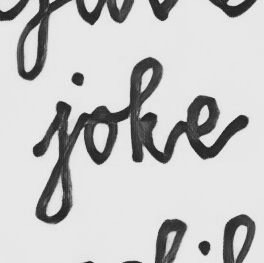e: (183, 92, 224, 162)
j: (32, 98, 76, 225)
k: (125, 55, 172, 165)
o: (80, 102, 120, 165)
